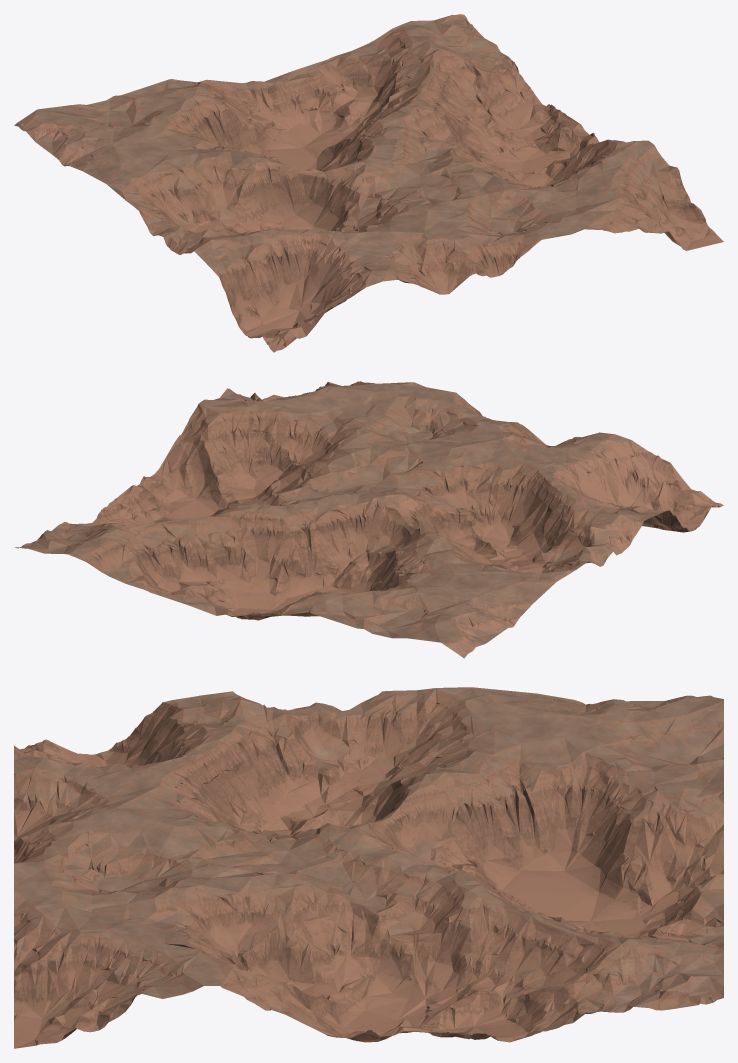
The model's file is Mountain.fbx.
3 views of the same model, one above another, from view 1: azimuth 30°, elevation 25°; view 2: azimuth 150°, elevation 25°; view 3: azimuth 270°, elevation 25° (orthographic). The views are drawn at different scales.
Visible parts, largest first — view 1: TO14_SM_CMN_BG_Mountain01.mo; view 2: TO14_SM_CMN_BG_Mountain01.mo; view 3: TO14_SM_CMN_BG_Mountain01.mo.
Boxes of the visible parts, <box> form: TO14_SM_CMN_BG_Mountain01.mo: <box>14,14,723,352</box>; TO14_SM_CMN_BG_Mountain01.mo: <box>15,381,723,658</box>; TO14_SM_CMN_BG_Mountain01.mo: <box>14,687,723,1048</box>.
Size of the model in its own units: 1000 by 121 by 1000.
